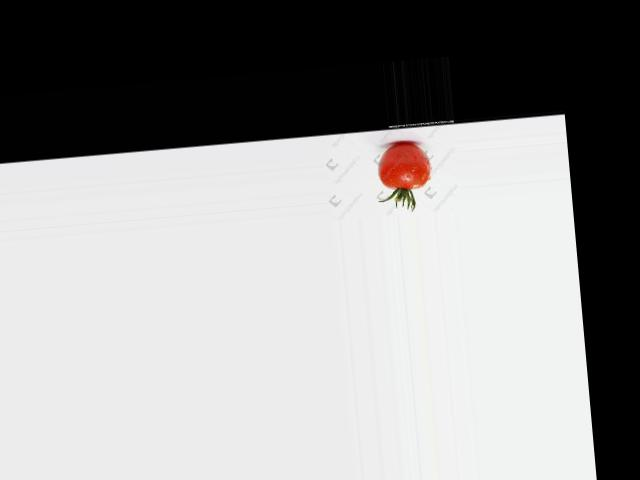tomato: (375, 140, 431, 190)
